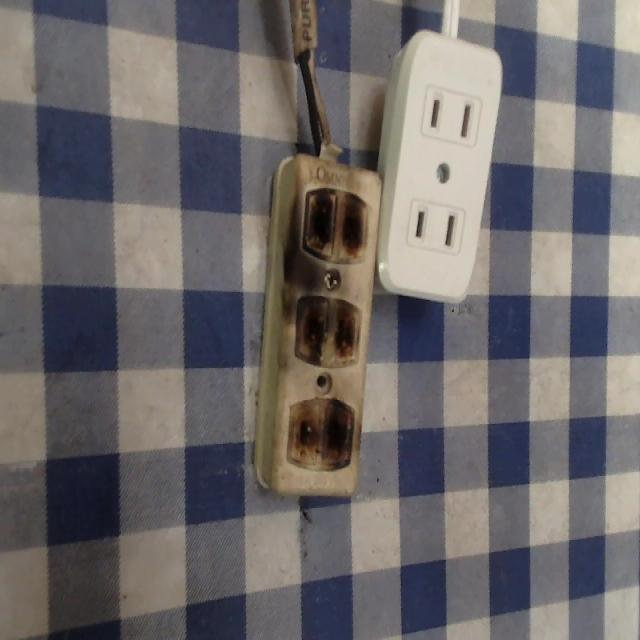-: (302, 186, 370, 266), (285, 399, 359, 472), (295, 293, 361, 372)
